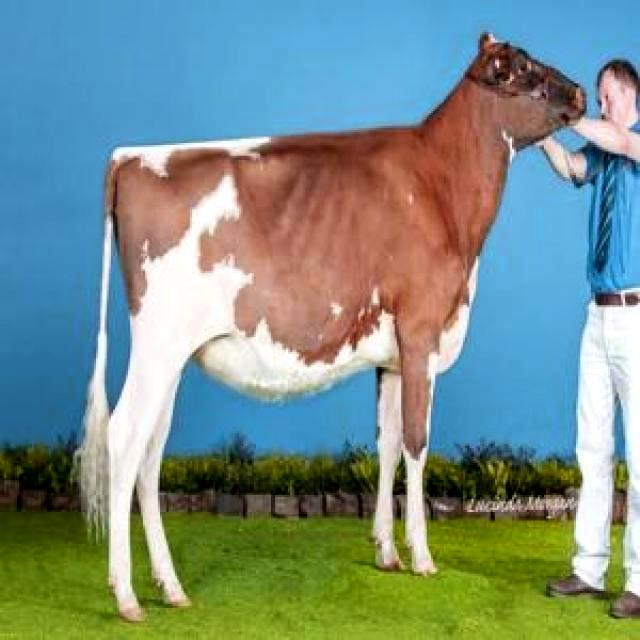COW: (84, 35, 585, 620)
